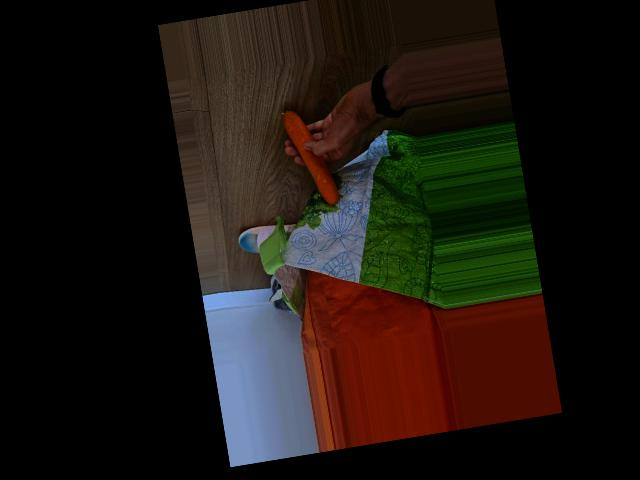carrot: (280, 105, 341, 207)
